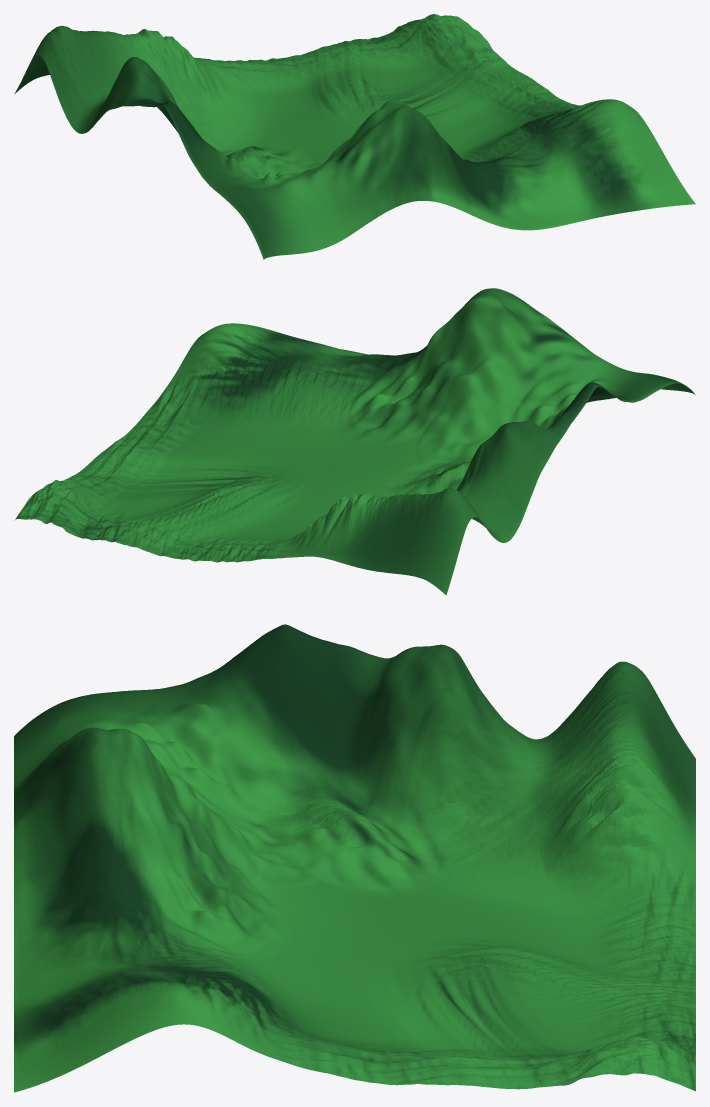
File: Terrain.obj
The picture shows the model from 3 angles, top to bottom: view 1: azimuth 30°, elevation 25°; view 2: azimuth 150°, elevation 25°; view 3: azimuth 270°, elevation 25°; orthographic projection. The views are drawn at different scales.
Size of the model in its own units: 1000 by 304 by 1000.
Materials: 1 (1 with a texture image).
